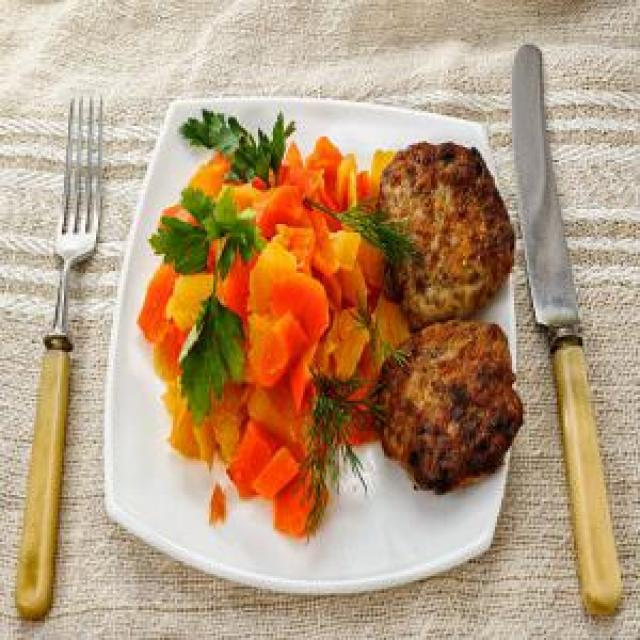knife: (512, 41, 624, 620)
